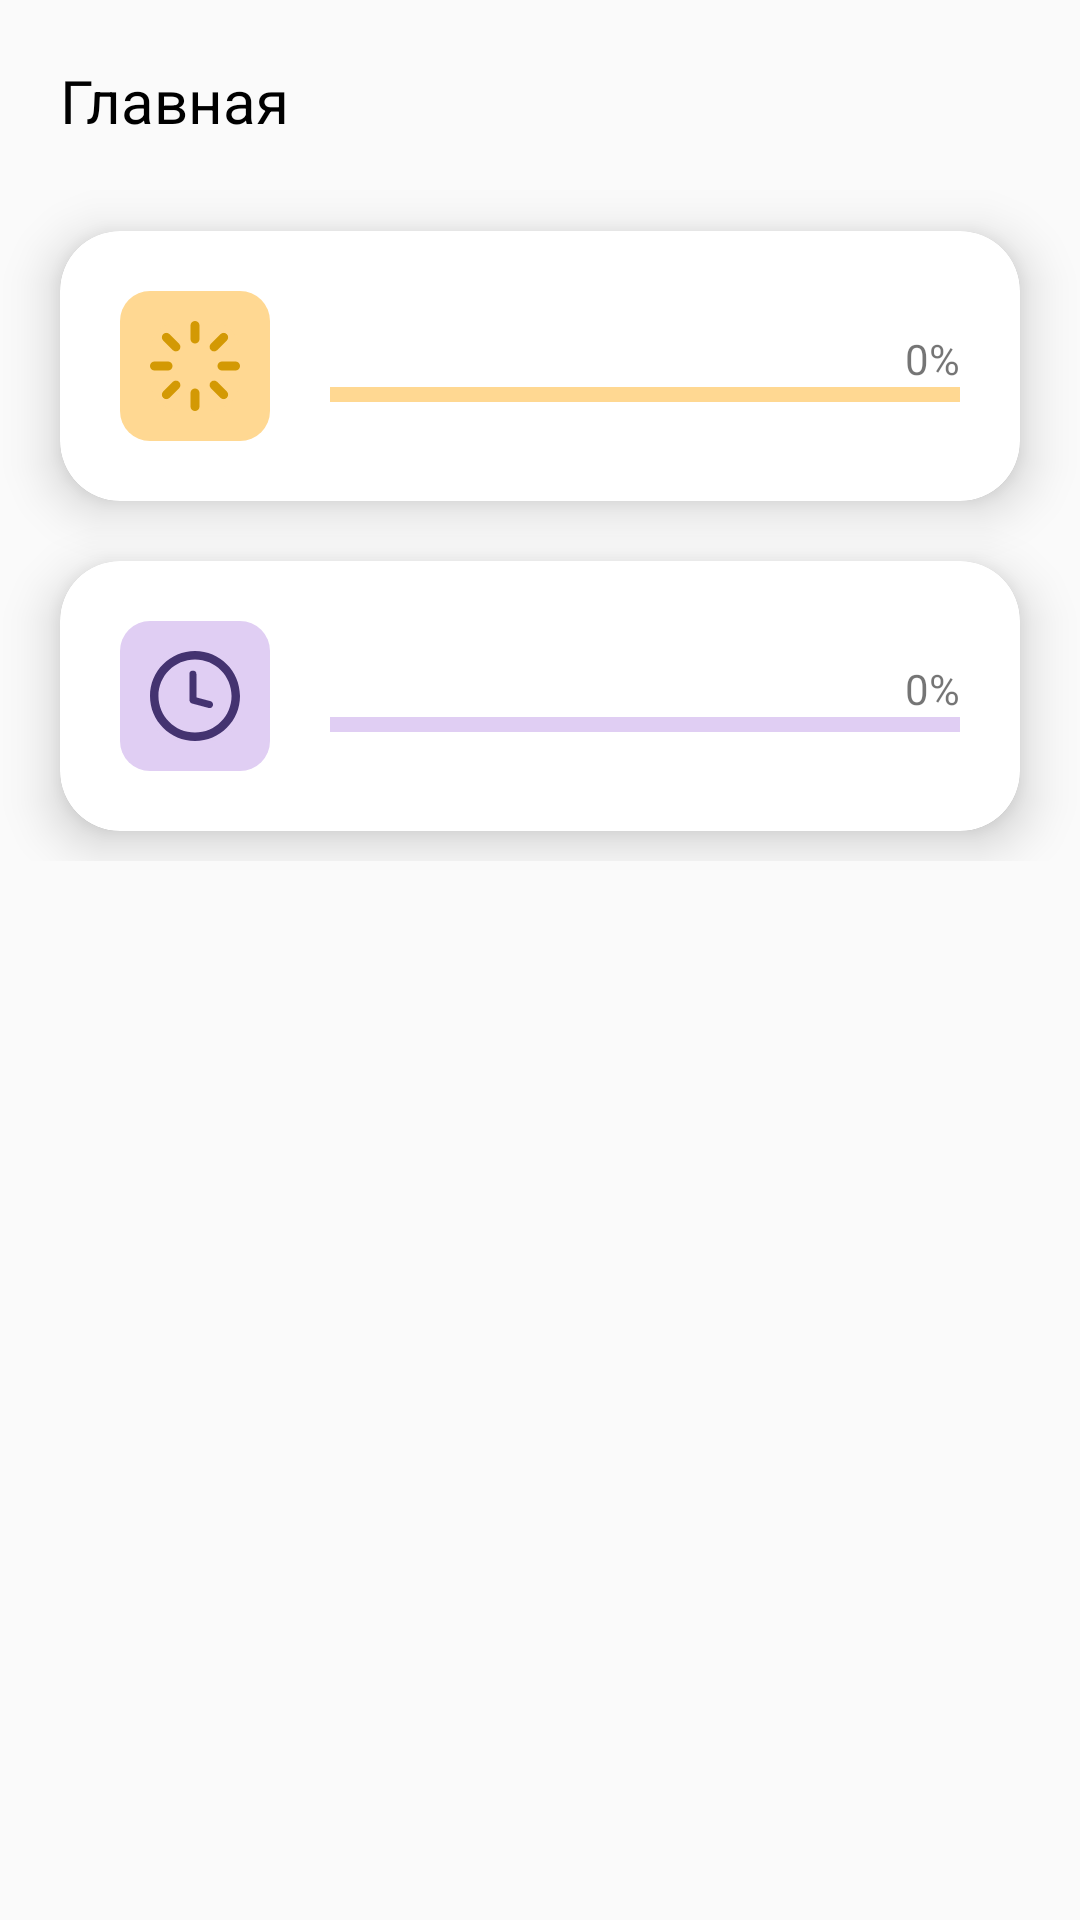

Named icons in this screenshot (1080×1920) and their bounding boxes, rect(x1, y1, x2, y2):
process: rect(150, 321, 240, 411)
time: rect(150, 651, 240, 741)
